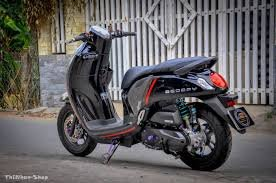motor: (59, 25, 251, 175)
